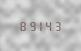eight: (18, 20, 26, 31)
four: (45, 20, 53, 31)
nine: (27, 20, 35, 31)
one: (36, 20, 44, 31)
three: (54, 20, 62, 31)
